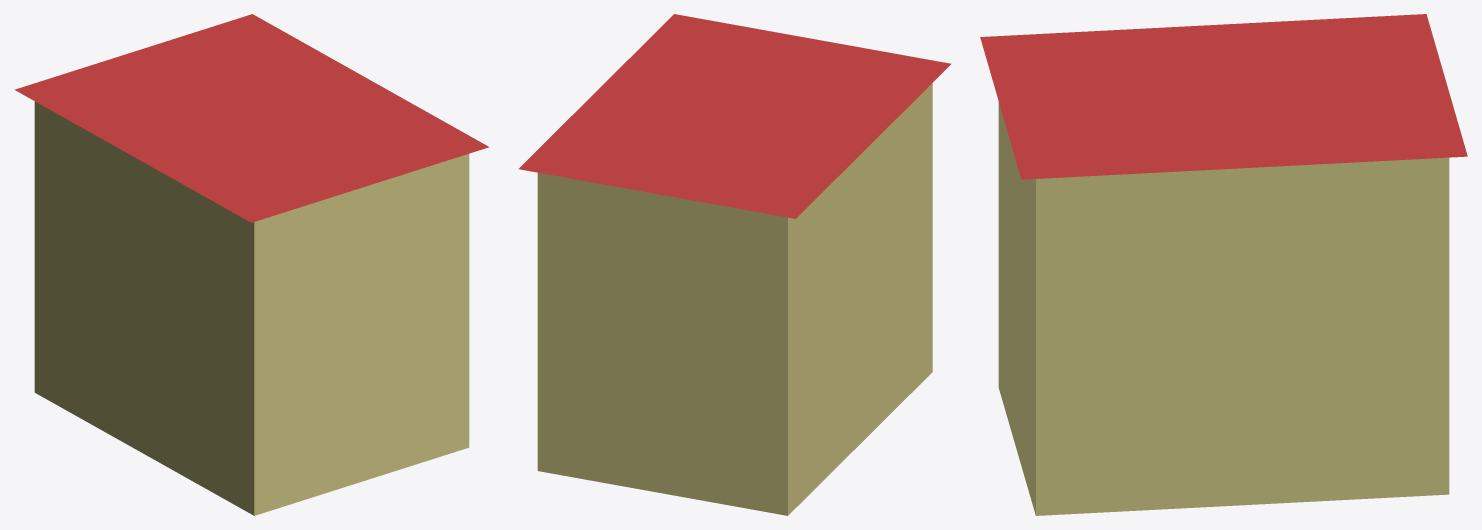
3 renders of one model, left to right at view 1: azimuth 30°, elevation 25°; view 2: azimuth 150°, elevation 25°; view 3: azimuth 270°, elevation 25°, orthographic. The views are drawn at different scales.
Size of the model in its own units: 5.92 by 7.37 by 5.73.
